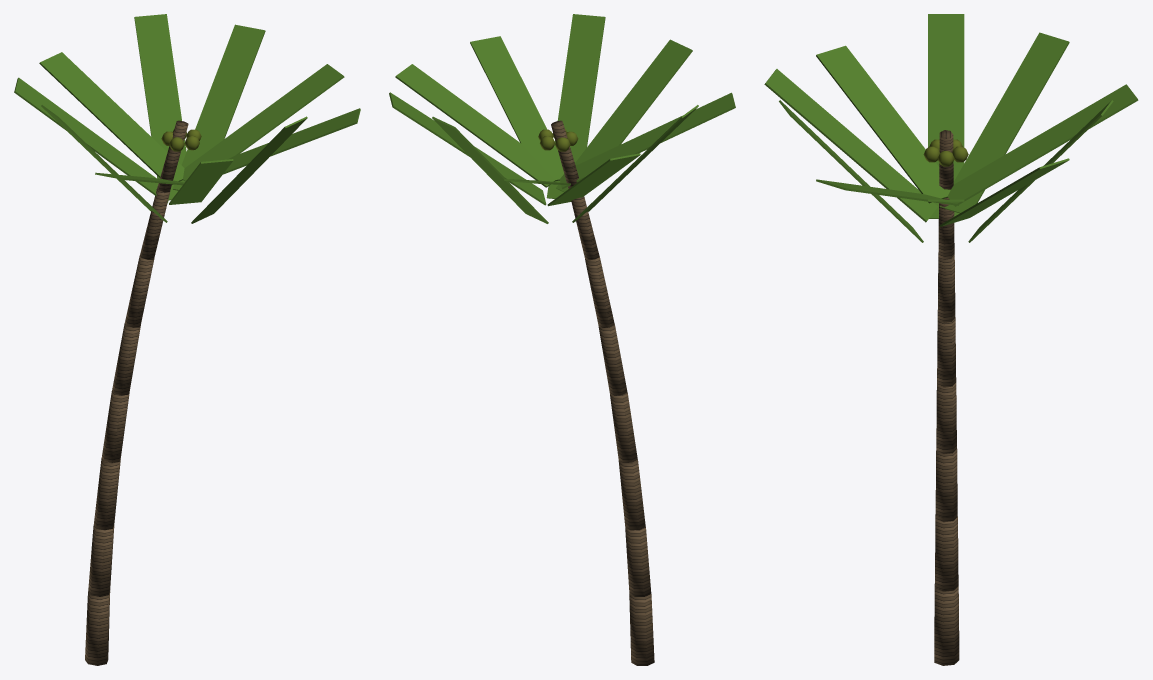
File: palm_coconut.glb
3 renders of one model, left to right at view 1: azimuth 30°, elevation 25°; view 2: azimuth 150°, elevation 25°; view 3: azimuth 270°, elevation 25°, orthographic. The views are drawn at different scales.
Parts seen in each view (by area): view 1: Palm; view 2: Palm; view 3: Palm.
Part boxes in pixels (x1=…): Palm: x1=14, y1=14, x2=360, y2=665; Palm: x1=389, y1=14, x2=735, y2=665; Palm: x1=764, y1=14, x2=1138, y2=665.
Bounding box in the file's own units: 5.52 × 10.32 × 5.63.
3 materials, 1 textured.
